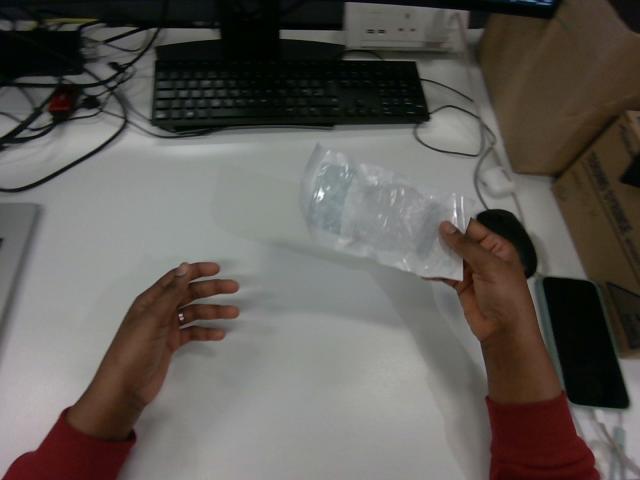gallipot: (301, 144, 470, 279)
